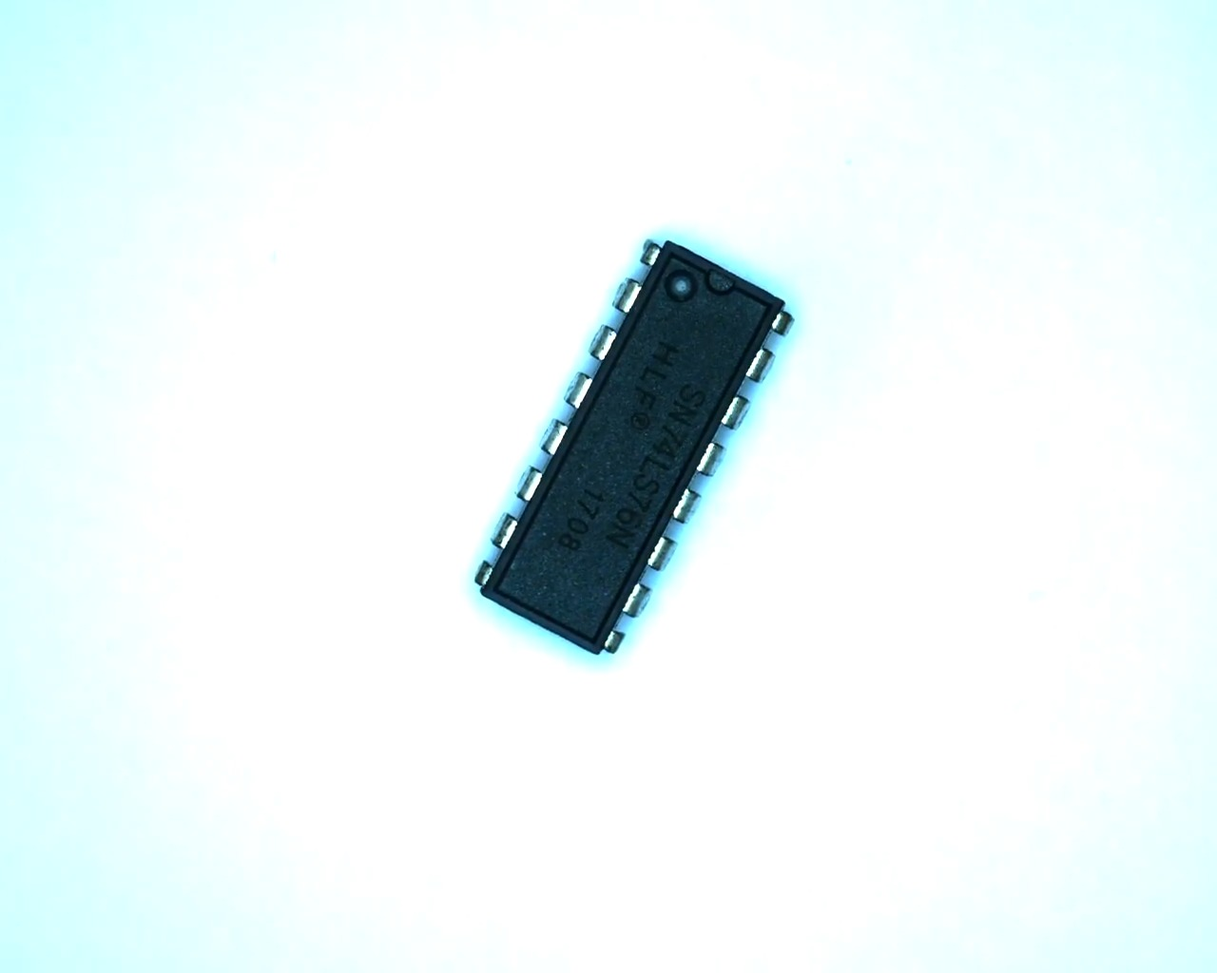IC: (461, 222, 811, 670)
notch: (698, 258, 740, 299)
